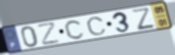0: (20, 25, 40, 48)
3: (112, 10, 134, 35)
C: (64, 19, 87, 40), (85, 16, 107, 36)
Z: (36, 21, 62, 47), (130, 6, 157, 31)
